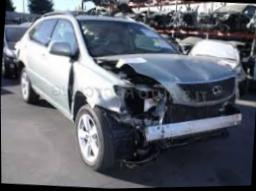Bonnet: (91, 53, 234, 101)
Bumper: (114, 88, 242, 170)
Fender: (72, 60, 128, 113)
